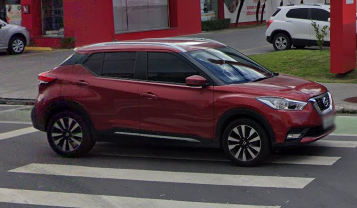car: (30, 38, 339, 167)
